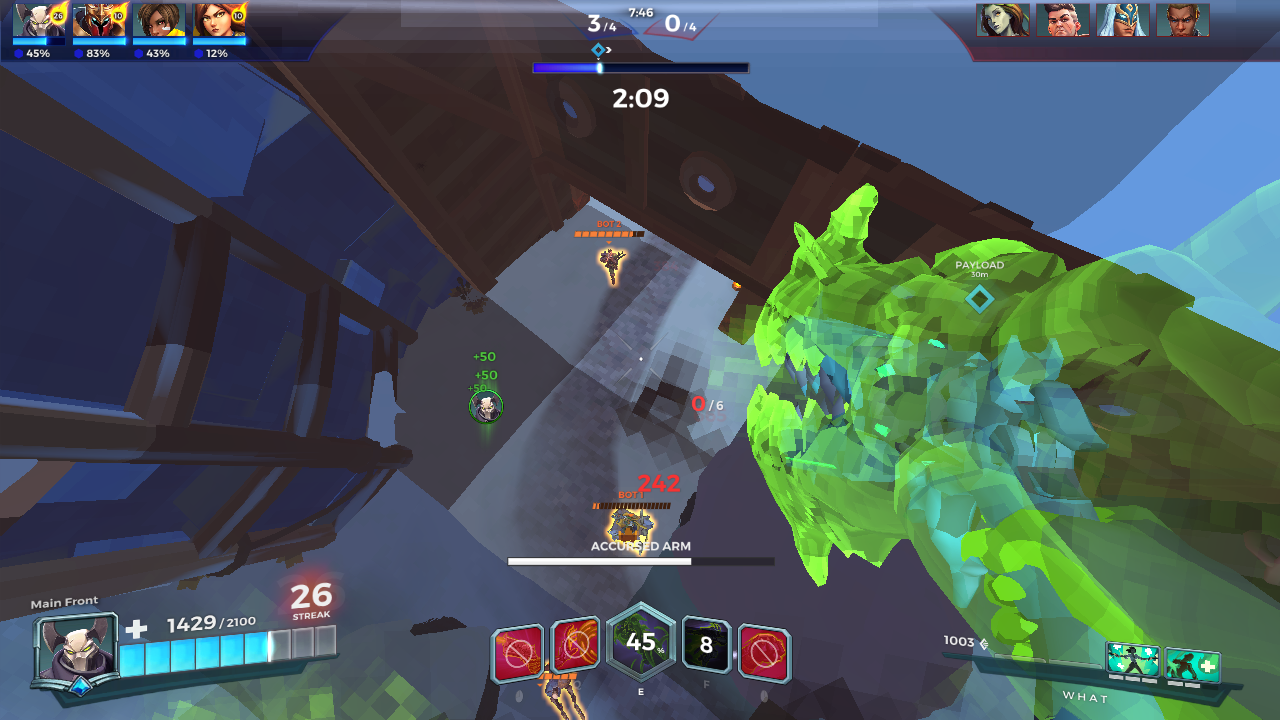model: (551, 681, 590, 717), (607, 511, 646, 540), (594, 246, 623, 278)
